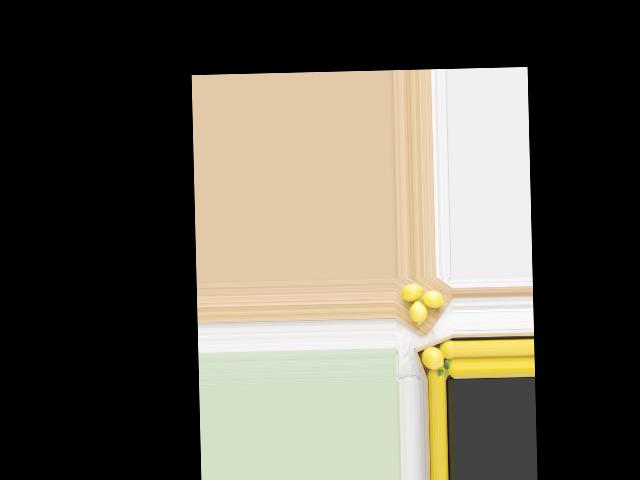lemon: (397, 281, 423, 306)
